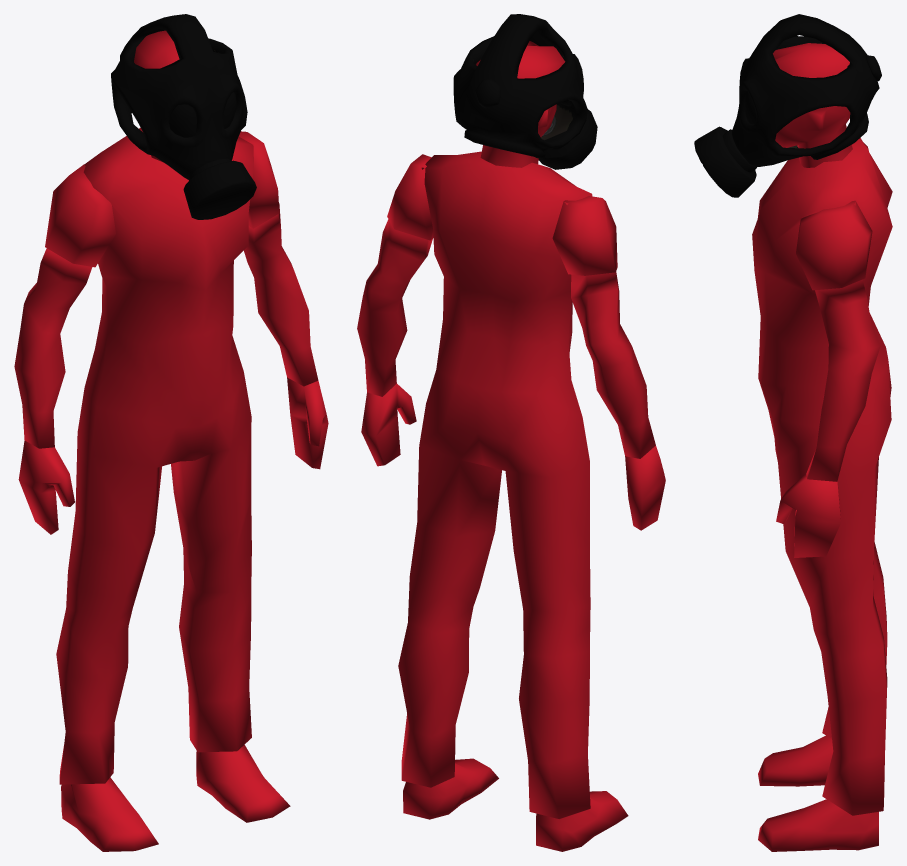
The model's file is hero.fbx.
The picture shows the model from 3 angles, left to right: view 1: azimuth 30°, elevation 25°; view 2: azimuth 150°, elevation 25°; view 3: azimuth 270°, elevation 25°; orthographic projection.
Visible parts, largest first — view 1: node_id6, node_id43, node_id45; view 2: node_id6, node_id43; view 3: node_id6, node_id43.
Part boxes in pixels (x1,y1,x2,y2): node_id6: (14, 30, 328, 851); node_id43: (111, 14, 256, 219); node_id45: (169, 92, 236, 137); node_id6: (357, 41, 665, 851); node_id43: (453, 14, 597, 169); node_id6: (752, 43, 892, 851); node_id43: (694, 14, 881, 197).
Bounding box in the file's own units: 0.1869 × 0.4977 × 0.1137.
3 materials, 3 textured.
